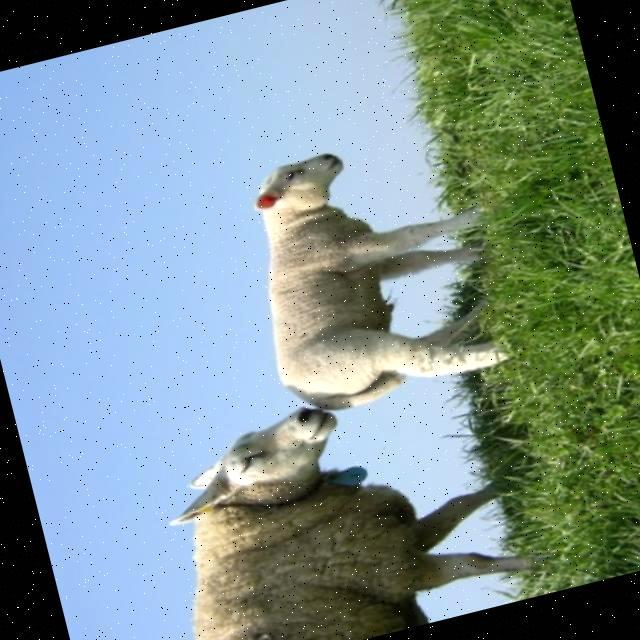sheep: (174, 409, 521, 640), (255, 153, 508, 411)
